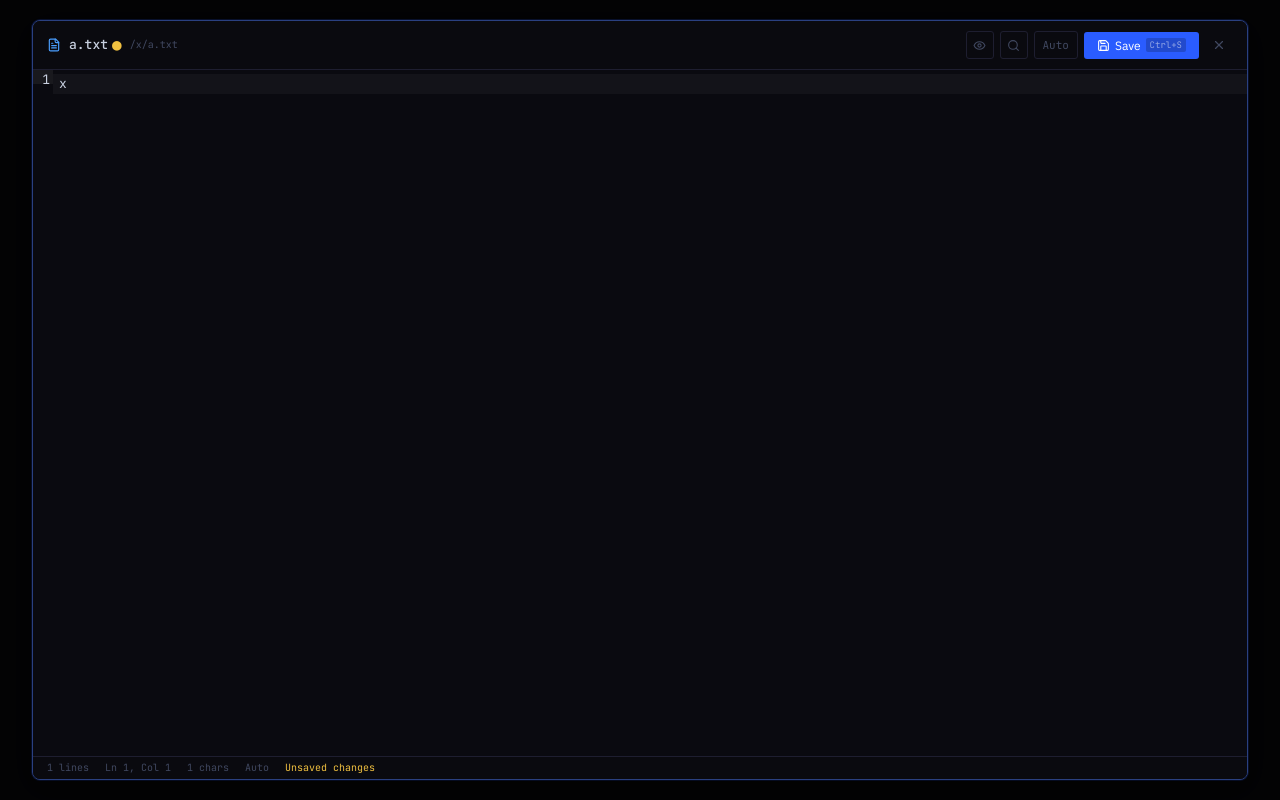
it: TextEditor 커버리지 (TEC) › TEC-04: 저장 실패 시 상태 표시줄에 오류 표시
Click the button "Save Ctrl+S" at (1141, 45), box [1084,32,1199,58]
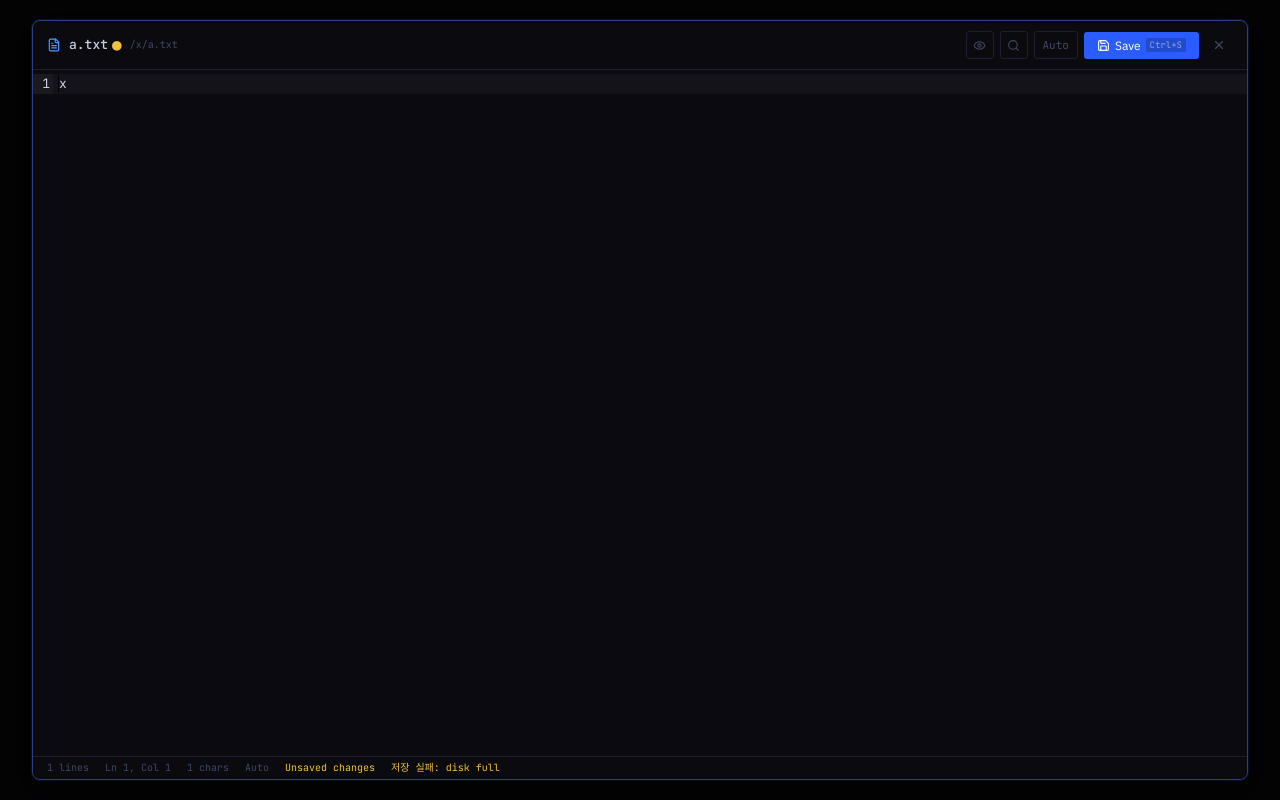
Expected: the text "저장 실패: disk full" is shown, [391,761,500,775]
